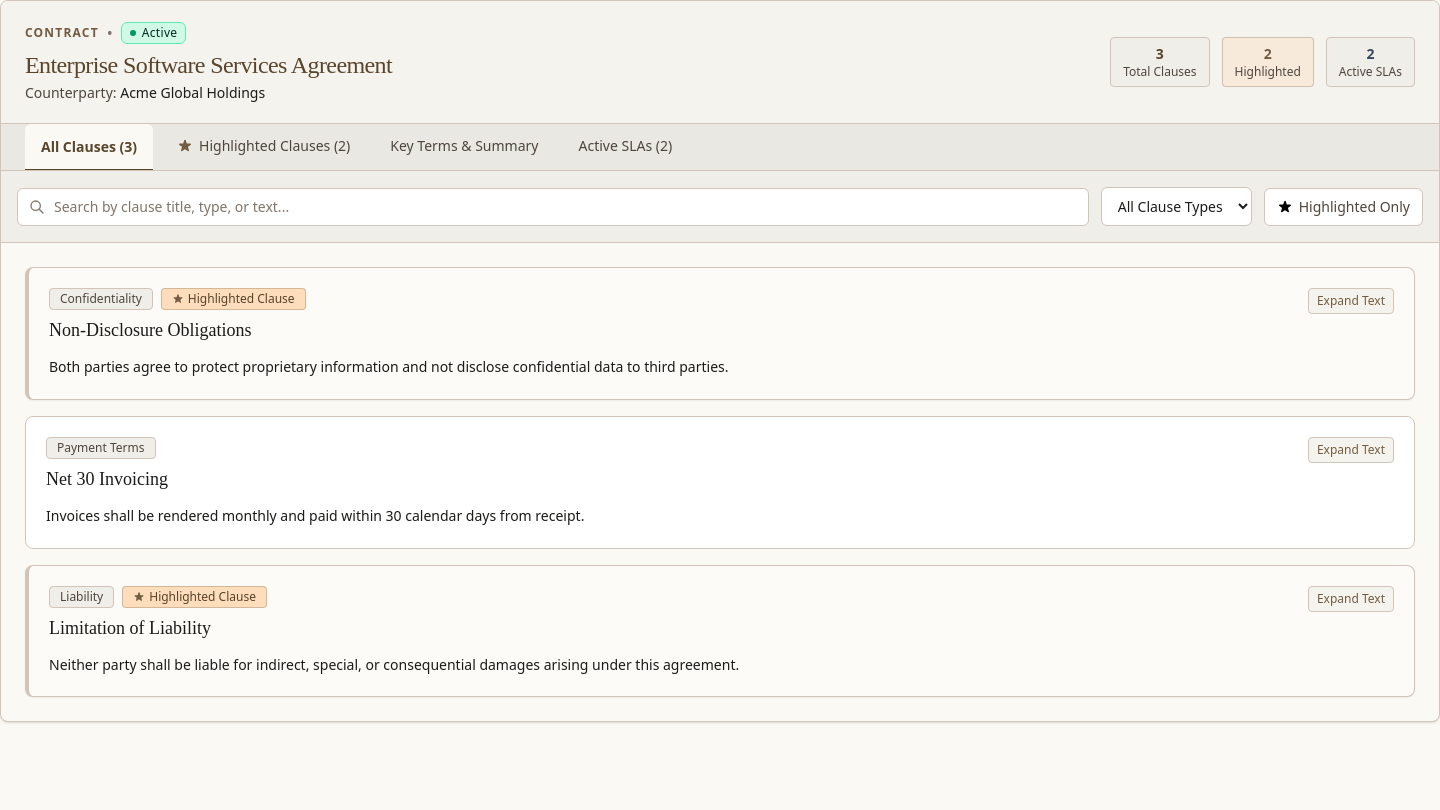
Test: ClauseViewer Component › switches to Key Terms & Summary tab
Click the tab with test id "tab-key-terms": (464, 147) [374, 124, 554, 170]
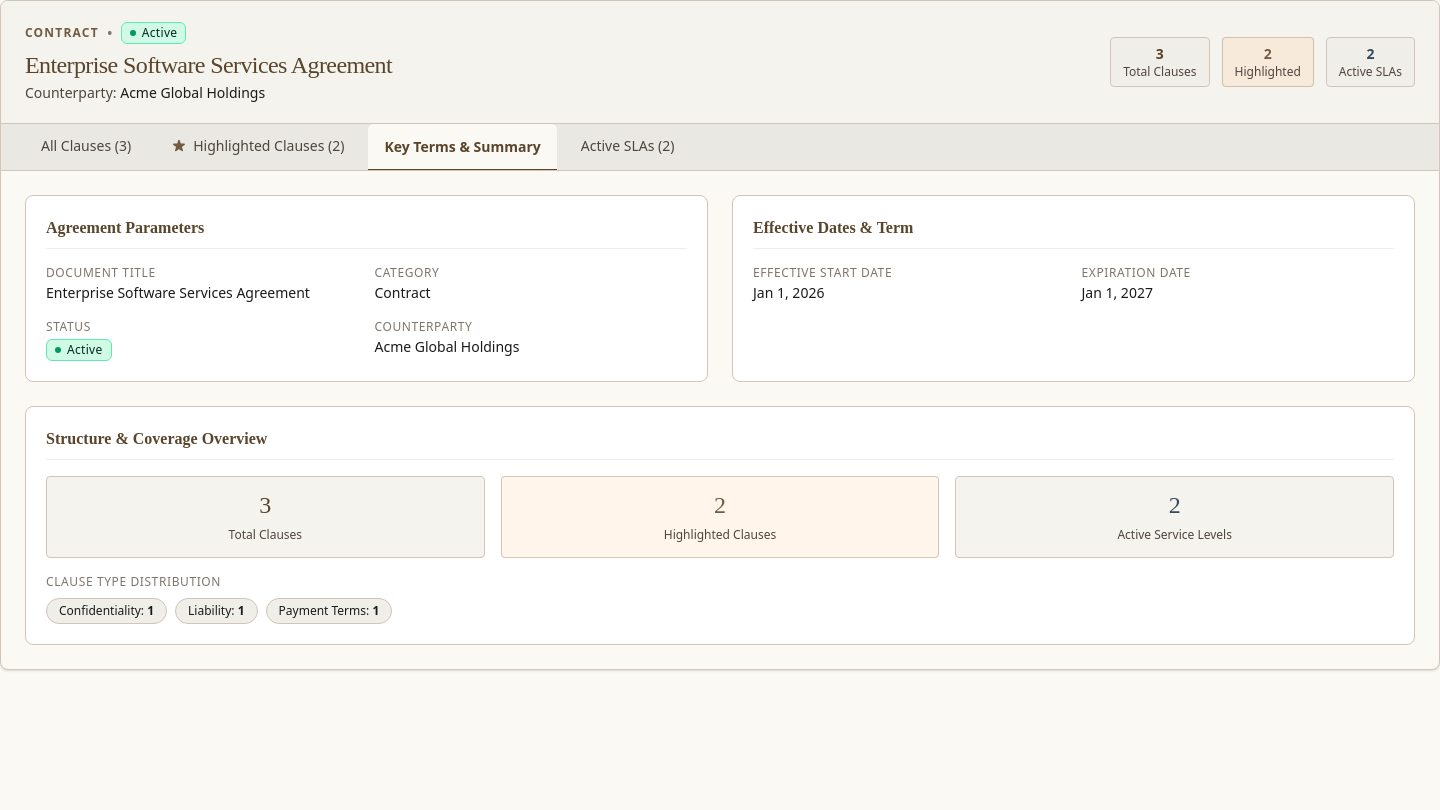
Now the panel with test id "panel-key-terms" is shown, box [25, 195, 1415, 645]
Now the element with test id "key-terms-overview-card" is shown, box [25, 195, 708, 382]
Now the element with test id "key-terms-timeline-card" is shown, box [732, 195, 1415, 382]
